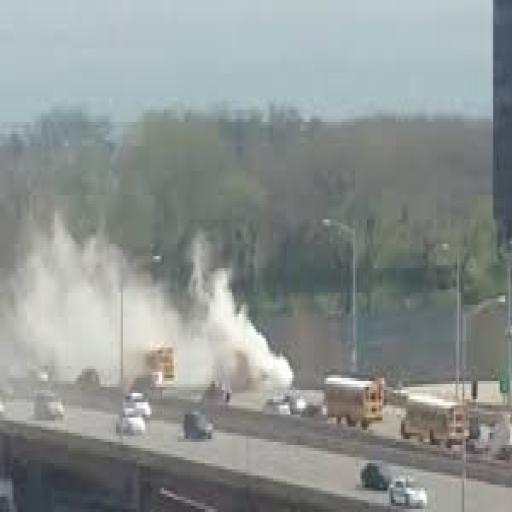smoke: (2, 232, 302, 402)
